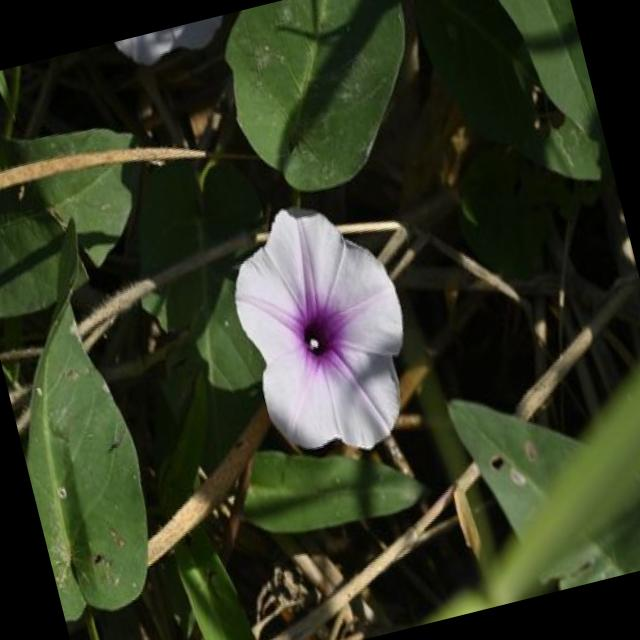ipomoea: (210, 180, 438, 478)
